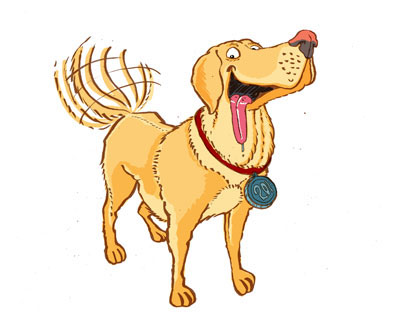dog: (44, 21, 327, 314)
